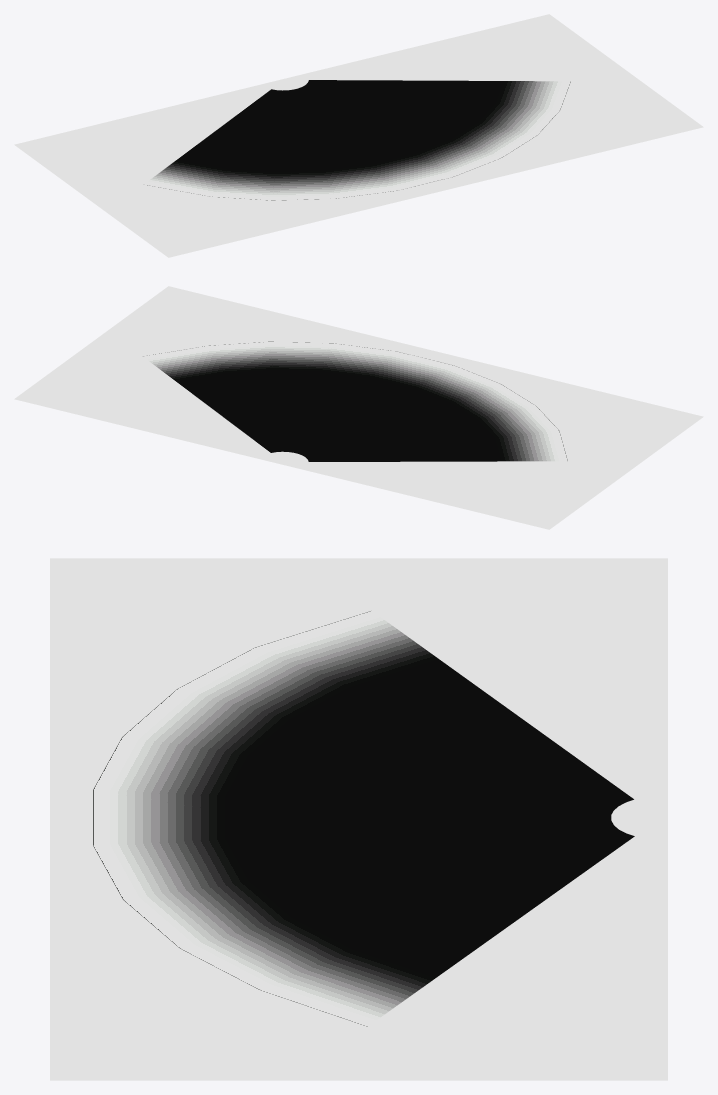
The model's file is skilltips_120du.FBX.
3 renders of one model, top to bottom at view 1: azimuth 30°, elevation 25°; view 2: azimuth 150°, elevation 25°; view 3: azimuth 270°, elevation 25°, orthographic. The views are drawn at different scales.
Visible parts, largest first — view 1: 1_1, 2_1; view 2: 1_1, 2_1; view 3: 1_1, 2_1.
Part boxes in pixels (bbox=[...]): 1_1: bbox=[14, 14, 703, 257]; 2_1: bbox=[144, 80, 570, 200]; 1_1: bbox=[14, 286, 703, 529]; 2_1: bbox=[143, 341, 567, 461]; 1_1: bbox=[50, 558, 667, 1080]; 2_1: bbox=[93, 611, 634, 1026].
Size of the model in its own units: 2.08 by 0.00313 by 1.04.
2 materials, 2 textured.
